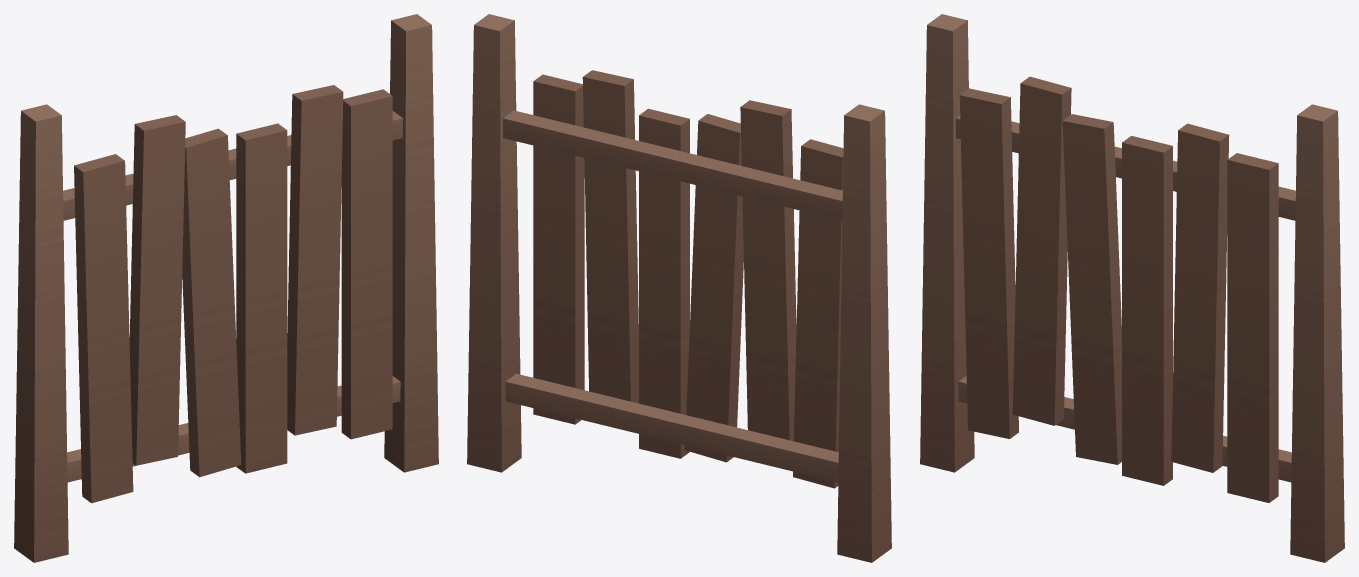
The model's file is fence_fortified.glb.
3 renders of one model, left to right at view 1: azimuth 30°, elevation 25°; view 2: azimuth 150°, elevation 25°; view 3: azimuth 330°, elevation 25°, orthographic.
Visible parts, largest first — view 1: fence-fortified; view 2: fence-fortified; view 3: fence-fortified.
Boxes of the visible parts, box(x1,y1,x2,y2) form: fence-fortified: box(14, 14, 438, 562); fence-fortified: box(467, 14, 891, 562); fence-fortified: box(920, 14, 1344, 562).
Bounding box in the file's own units: 1.33 × 1.37 × 0.1405.
Materials: 1 (1 with a texture image).
